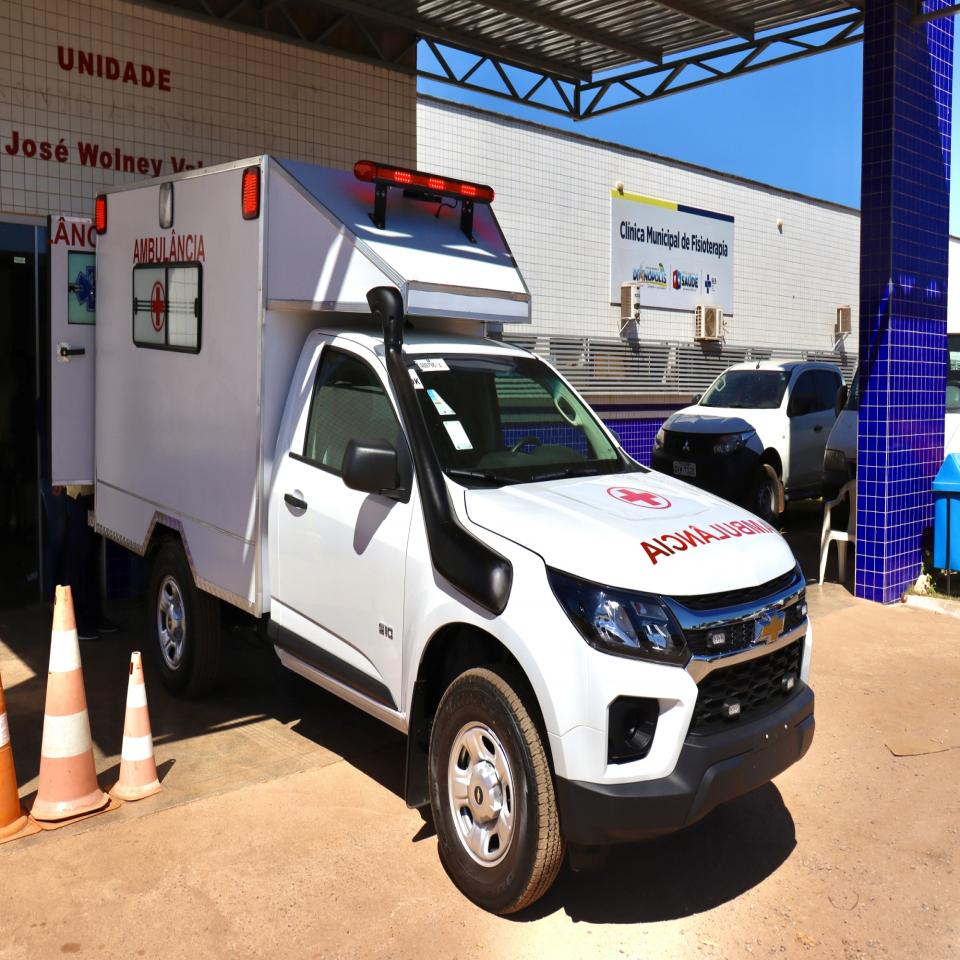bombeiro: (84, 150, 815, 918)
